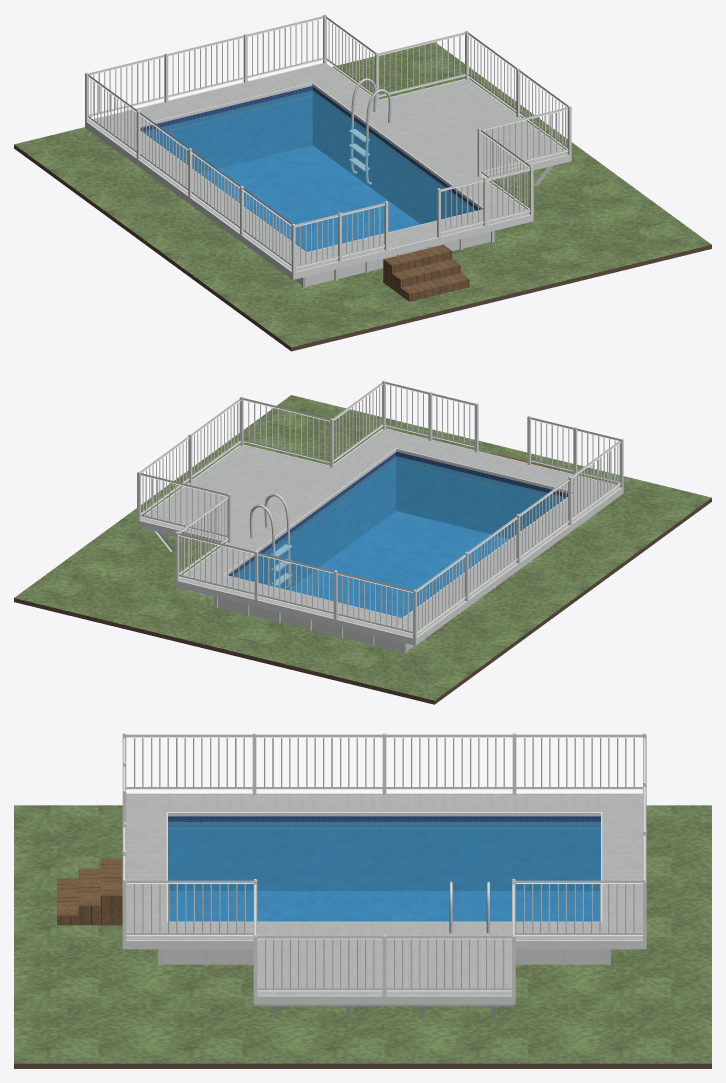
Rendered from kayak-pool-12x20-white-t-rec-fence.93c5aed0b4.glb.
3 views of the same model, one above another, from view 1: azimuth 30°, elevation 25°; view 2: azimuth 150°, elevation 25°; view 3: azimuth 270°, elevation 25° (orthographic). The views are drawn at different scales.
Visible parts, largest first — view 1: ground, water, deck, fence, liner_wall, liner_floor, fascia, steps, soil, wall, steel; view 2: ground, water, deck, fence, liner_wall, liner_floor, fascia, soil, wall, steel; view 3: ground, water, deck, liner_wall, fence, liner_floor, fascia, soil, steps, wall, stud.
Boxes of the visible parts, left/top/right/bottom form: ground: left=14, top=42, right=711, bottom=347; water: left=143, top=90, right=476, bottom=251; deck: left=88, top=63, right=567, bottom=271; fence: left=85, top=14, right=571, bottom=272; liner_wall: left=140, top=86, right=480, bottom=224; liner_floor: left=198, top=145, right=420, bottom=251; fascia: left=85, top=63, right=571, bottom=279; steps: left=383, top=244, right=469, bottom=301; soil: left=14, top=144, right=711, bottom=351; wall: left=294, top=231, right=490, bottom=286; steel: left=349, top=78, right=391, bottom=184; ground: left=14, top=395, right=711, bottom=700; water: left=232, top=456, right=565, bottom=617; deck: left=141, top=429, right=620, bottom=637; fence: left=137, top=380, right=623, bottom=638; liner_wall: left=228, top=452, right=567, bottom=589; liner_floor: left=288, top=511, right=509, bottom=617; fascia: left=137, top=428, right=623, bottom=645; soil: left=14, top=498, right=711, bottom=704; wall: left=218, top=597, right=414, bottom=652; steel: left=249, top=493, right=292, bottom=588; ground: left=14, top=805, right=711, bottom=1063; water: left=168, top=822, right=600, bottom=921; deck: left=126, top=794, right=642, bottom=995; liner_wall: left=168, top=816, right=600, bottom=891; fence: left=122, top=733, right=646, bottom=996; liner_floor: left=169, top=891, right=599, bottom=921; fascia: left=122, top=793, right=646, bottom=1004; soil: left=14, top=1063, right=711, bottom=1068; steps: left=57, top=858, right=122, bottom=925; wall: left=162, top=949, right=606, bottom=964; stud: left=255, top=1004, right=513, bottom=1017.
Size of the model in its own units: 8.53 by 2.15 by 9.75.
Materials: 13 (5 with a texture image).
